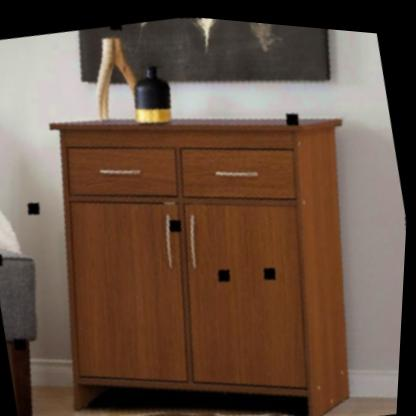Sideboard: (19, 58, 395, 416)
